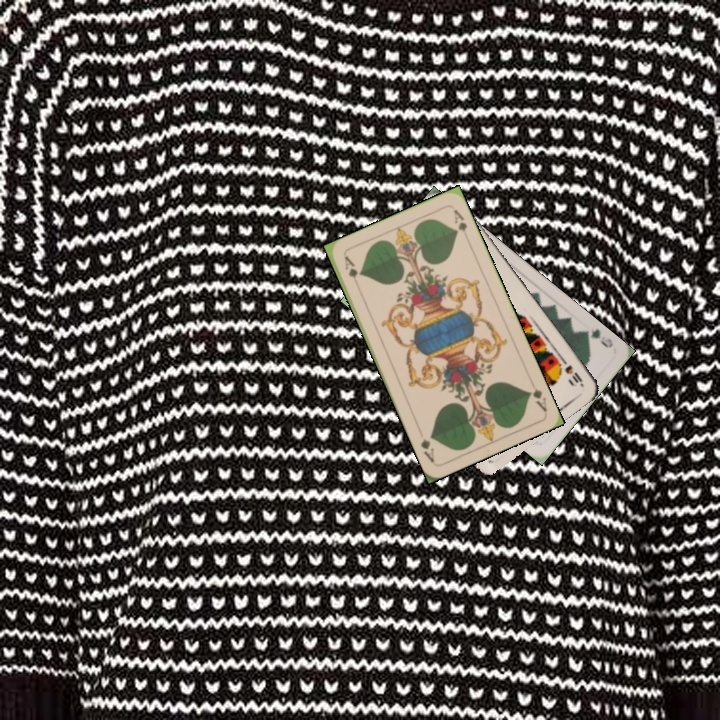G9: (578, 324, 616, 350)
GA: (523, 376, 550, 414), (340, 252, 362, 291)
S10: (557, 353, 586, 389)
